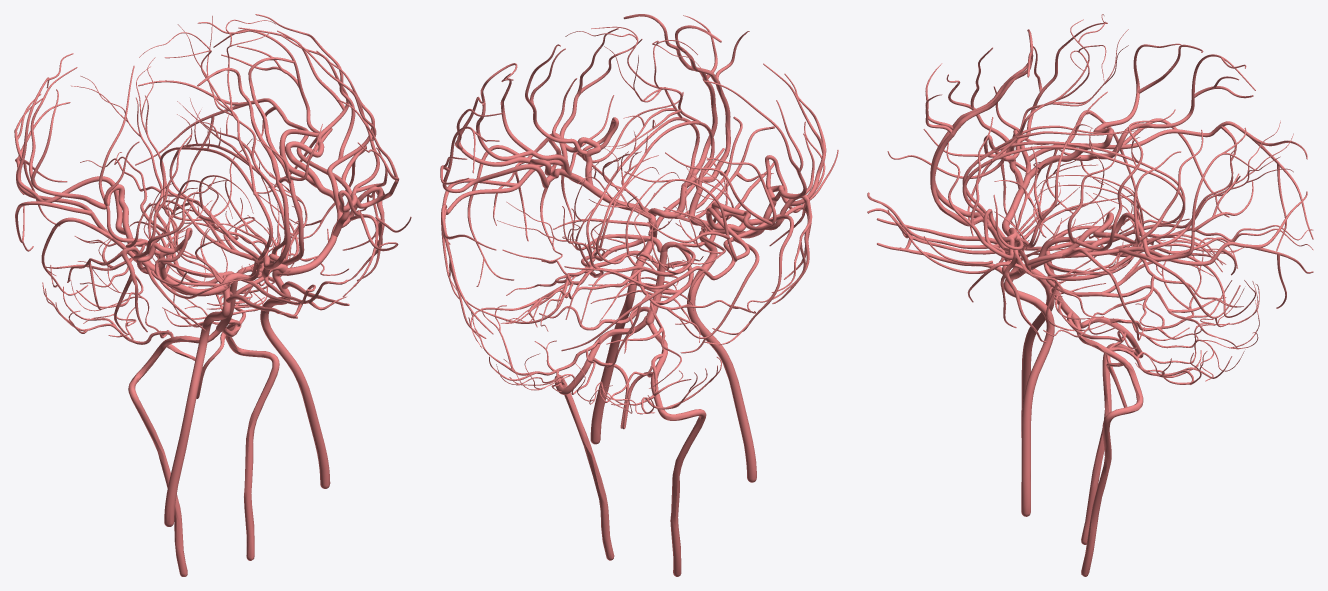
File: arteres-tete.hi.glb
The picture shows the model from 3 angles, left to right: view 1: azimuth 30°, elevation 25°; view 2: azimuth 150°, elevation 25°; view 3: azimuth 270°, elevation 25°; orthographic projection. The views are drawn at different scales.
Parts seen in each view (by area): view 1: FJ1682, FJ1682M, FJ1725M, FJ1725, FJ1729M, FJ1716, FJ1716M, FJ1724, FJ1729, FJ1659, FJ1724M, FJ1694M (+23 smaller); view 2: FJ1682, FJ1725M, FJ1725, FJ1682M, FJ1729, FJ1729M, FJ1716, FJ1716M, FJ1724M, FJ1724, FJ1659, FJ1659M (+17 smaller); view 3: FJ1682M, FJ1725M, FJ1725, FJ1729, FJ1729M, FJ1716M, FJ1682, FJ1659M, FJ1716, FJ1724M, FJ1699M, FJ1699 (+15 smaller).
Boxes of the visible parts, x1,y1,x2,y2 form: FJ1682: [164, 284, 230, 526]; FJ1682M: [260, 268, 330, 488]; FJ1725M: [222, 324, 279, 560]; FJ1725: [128, 329, 220, 576]; FJ1729M: [135, 80, 351, 195]; FJ1716: [16, 53, 128, 234]; FJ1716M: [197, 22, 319, 187]; FJ1724: [133, 134, 215, 262]; FJ1729: [15, 102, 136, 262]; FJ1659: [67, 248, 147, 334]; FJ1724M: [336, 98, 399, 212]; FJ1694M: [285, 141, 342, 220]; FJ1682: [687, 228, 756, 482]; FJ1725M: [554, 316, 646, 560]; FJ1725: [648, 323, 706, 576]; FJ1682M: [590, 213, 657, 444]; FJ1729: [561, 214, 781, 368]; FJ1729M: [441, 159, 563, 338]; FJ1716: [624, 171, 749, 261]; FJ1716M: [442, 126, 557, 192]; FJ1724M: [559, 28, 642, 156]; FJ1724: [763, 63, 826, 206]; FJ1659: [771, 195, 812, 303]; FJ1659M: [493, 134, 573, 249]; FJ1682M: [1004, 260, 1054, 516]; FJ1725M: [1072, 319, 1143, 576]; FJ1725: [1080, 317, 1143, 544]; FJ1729: [1025, 121, 1313, 251]; FJ1729M: [1027, 191, 1313, 308]; FJ1716M: [1071, 127, 1255, 261]; FJ1682: [1004, 230, 1054, 437]; FJ1659M: [1000, 251, 1103, 342]; FJ1716: [1070, 54, 1255, 160]; FJ1724M: [946, 117, 1014, 259]; FJ1699M: [962, 134, 1146, 223]; FJ1699: [962, 125, 1145, 213].
Size of the model in its own units: 0.1447 by 0.2325 by 0.179.
